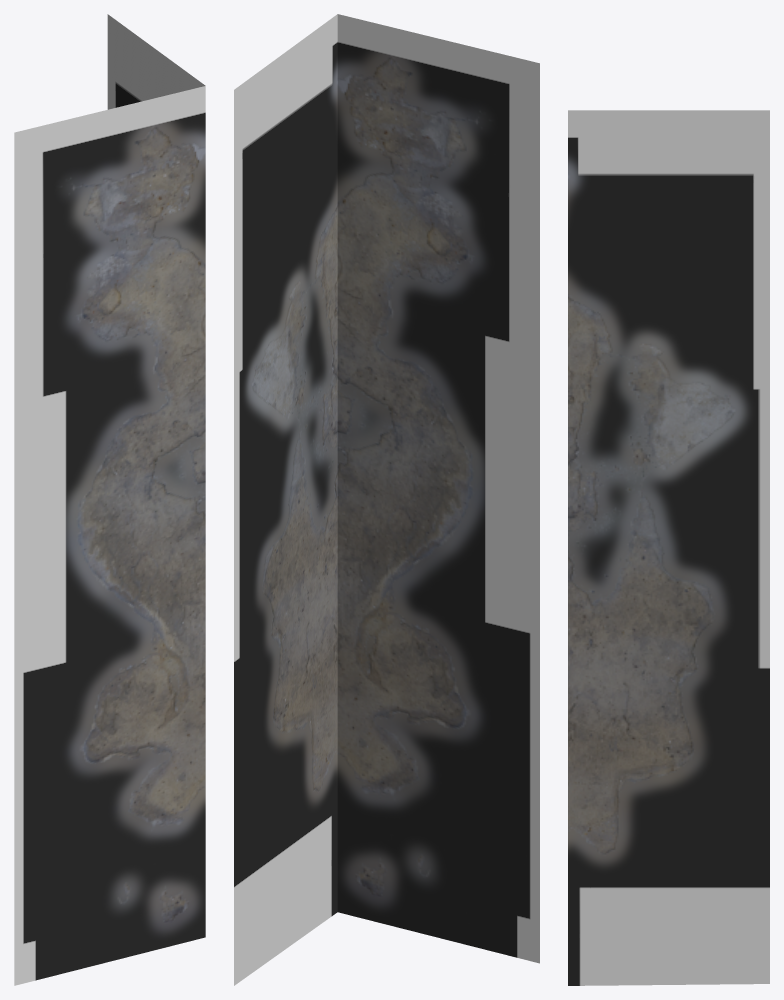
Rendered from Decal_Damage_07.fbx.
3 views of the same model, side by side, from view 1: azimuth 30°, elevation 25°; view 2: azimuth 150°, elevation 25°; view 3: azimuth 270°, elevation 25° (orthographic). The views are drawn at different scales.
Parts seen in each view (by area): view 1: Decal_Damage_07; view 2: Decal_Damage_07; view 3: Decal_Damage_07.
Part boxes in pixels (x1,y1,x2,y2): Decal_Damage_07: (14, 14, 205, 985); Decal_Damage_07: (234, 14, 539, 985); Decal_Damage_07: (568, 110, 769, 985).
Bounding box in the file's own units: 21.7 × 19.25 × 92.31.
Materials: 1 (1 with a texture image).
